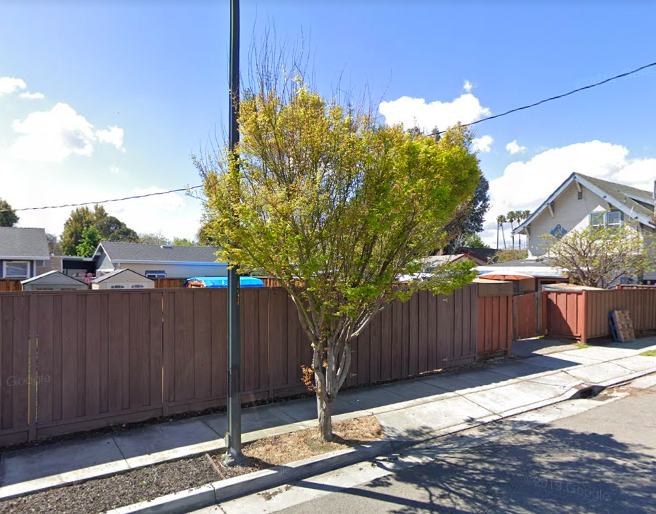tree: (196, 62, 483, 443)
